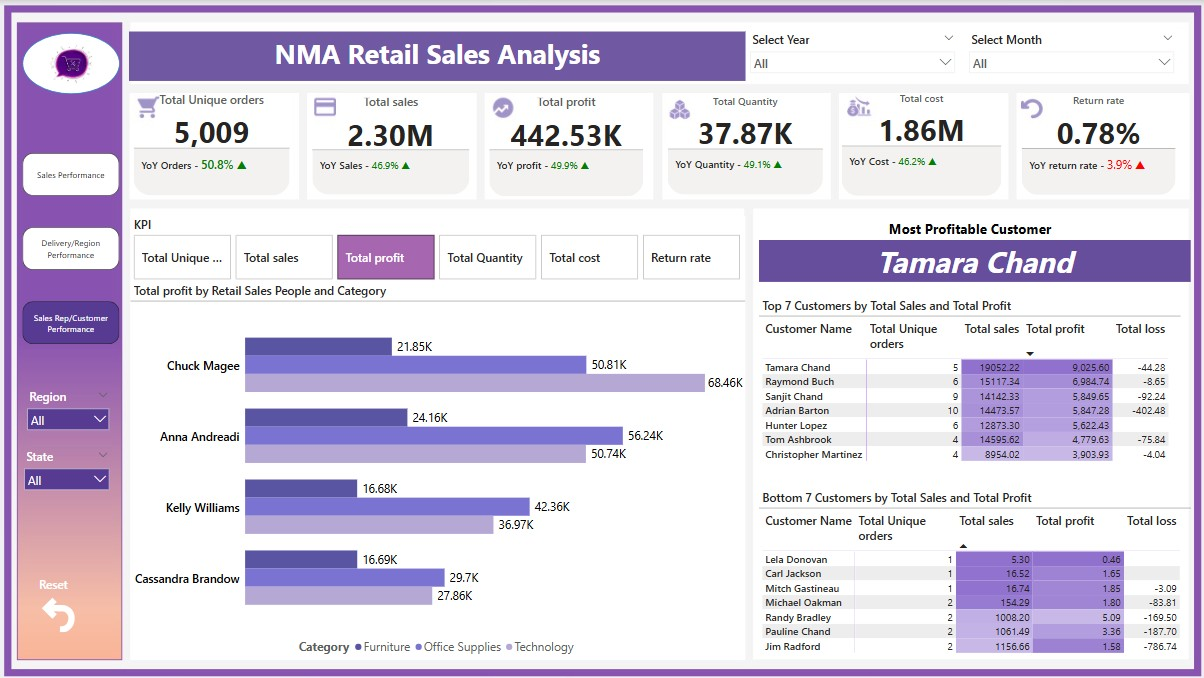

This screenshot's page, from the dashboard's own definition file:
{"tool":"powerbi","page":{"name":"Sales Rep/Customer Performance","canvas":[1920,1080],"ordinal":2},"visuals":[{"type":"cardVisual","fields":{"Data":["_measures.Total Unique orders"]},"box":[212.7,145.8,258.2,170.1],"z":0},{"type":"cardVisual","fields":{"Data":["_measures.Total sales"]},"box":[496.3,150.3,260.1,164.6],"z":1000},{"type":"cardVisual","fields":{"Data":["_measures.Total profit"]},"box":[777.8,150.3,255.3,167],"z":2000},{"type":"cardVisual","fields":{"Data":["_measures.Total Quantity"]},"box":[1061.7,150.3,257.7,164.6],"z":3000},{"type":"cardVisual","fields":{"Data":["_measures.Total cost"]},"box":[1338.5,145.5,264.8,171.8],"z":4000},{"type":"cardVisual","fields":{"Data":["_measures.Return rate"]},"box":[1624.8,147.9,255.3,167],"z":5000},{"type":"clusteredBarChart","fields":{"Y":["_measures.Total profit"],"Category":["Dim_RetailSalesPeople.Retail Sales People"],"Series":["Dim_Products.Category"]},"box":[212.7,449.6,978.2,601.5],"z":6000},{"type":"advancedSlicerVisual","fields":{"Values":["KPI.KPI"]},"box":[212.7,343.3,978.2,106.3],"z":7000},{"type":"pivotTable","title":"Top 7 Customers by Total Sales and Total Profit","fields":{"Rows":["Dim_customers.Customer Name"],"Values":["_measures.Total Unique orders","_measures.Total sales","_measures.Total profit","_measures.Total loss"]},"box":[1212,472.4,670.4,279.2],"z":8000},{"type":"pivotTable","title":"Bottom 7 Customers by Total Sales and Total Profit","fields":{"Rows":["Dim_customers.Customer Name"],"Values":["_measures.Total Unique orders","_measures.Total sales","_measures.Total profit","_measures.Total loss"]},"box":[1212,777.8,687.1,274.4],"z":9000},{"type":"card","fields":{"Values":["Dim_customers.Customer Name"]},"box":[1212.2,382.8,686.6,66.8],"z":10000},{"type":"textbox","box":[1212.2,343.3,671.4,79],"z":11000},{"type":"slicer","fields":{"Values":["dim_Date.Year"]},"box":[1188.4,44.7,345.5,80.4],"z":12000},{"type":"slicer","fields":{"Values":["dim_Date.Month Name"]},"box":[1536.8,44.7,345.5,83.4],"z":13000},{"type":"pageNavigator","box":[39.5,243,154.9,306.8],"z":14000},{"type":"textbox","box":[211,49.7,980.7,78.6],"z":15000},{"type":"actionButton","title":"Reset","box":[66.8,916.2,100.2,93.1],"z":16000},{"type":"slicer","fields":{"Values":["Dim_Location.State"]},"box":[33.4,708.6,155.1,85.9],"z":17000},{"type":"slicer","fields":{"Values":["Dim_Location.Region"]},"box":[38.2,613.2,150.3,85.9],"z":18000},{"type":"shape","box":[39.5,51.6,154.9,97.2],"z":18001},{"type":"image","box":[69.9,60.8,100.3,82],"z":18002}]}

Visuals, with their boxes in screenshot pixels (x1, y1, x2, y2), scaled from the page's 1920x1080 canvas onto the 1204x678 screenshot:
cardVisual - _measures.Total Unique orders: x1=133, y1=92, x2=295, y2=198
cardVisual - _measures.Total sales: x1=311, y1=94, x2=474, y2=198
cardVisual - _measures.Total profit: x1=488, y1=94, x2=648, y2=199
cardVisual - _measures.Total Quantity: x1=666, y1=94, x2=827, y2=198
cardVisual - _measures.Total cost: x1=839, y1=91, x2=1005, y2=199
cardVisual - _measures.Return rate: x1=1019, y1=93, x2=1179, y2=198
clusteredBarChart - _measures.Total profit x Dim_RetailSalesPeople.Retail Sales People: x1=133, y1=282, x2=747, y2=660
advancedSlicerVisual - KPI.KPI: x1=133, y1=216, x2=747, y2=282
"Top 7 Customers by Total Sales and Total Profit" pivotTable: x1=760, y1=297, x2=1180, y2=472
"Bottom 7 Customers by Total Sales and Total Profit" pivotTable: x1=760, y1=488, x2=1191, y2=661
card - Dim_customers.Customer Name: x1=760, y1=240, x2=1191, y2=282
textbox: x1=760, y1=216, x2=1181, y2=265
slicer - dim_Date.Year: x1=745, y1=28, x2=962, y2=79
slicer - dim_Date.Month Name: x1=964, y1=28, x2=1180, y2=80
pageNavigator: x1=25, y1=153, x2=122, y2=345
textbox: x1=132, y1=31, x2=747, y2=81
"Reset" actionButton: x1=42, y1=575, x2=105, y2=634
slicer - Dim_Location.State: x1=21, y1=445, x2=118, y2=499
slicer - Dim_Location.Region: x1=24, y1=385, x2=118, y2=439
shape: x1=25, y1=32, x2=122, y2=93
image: x1=44, y1=38, x2=107, y2=90
